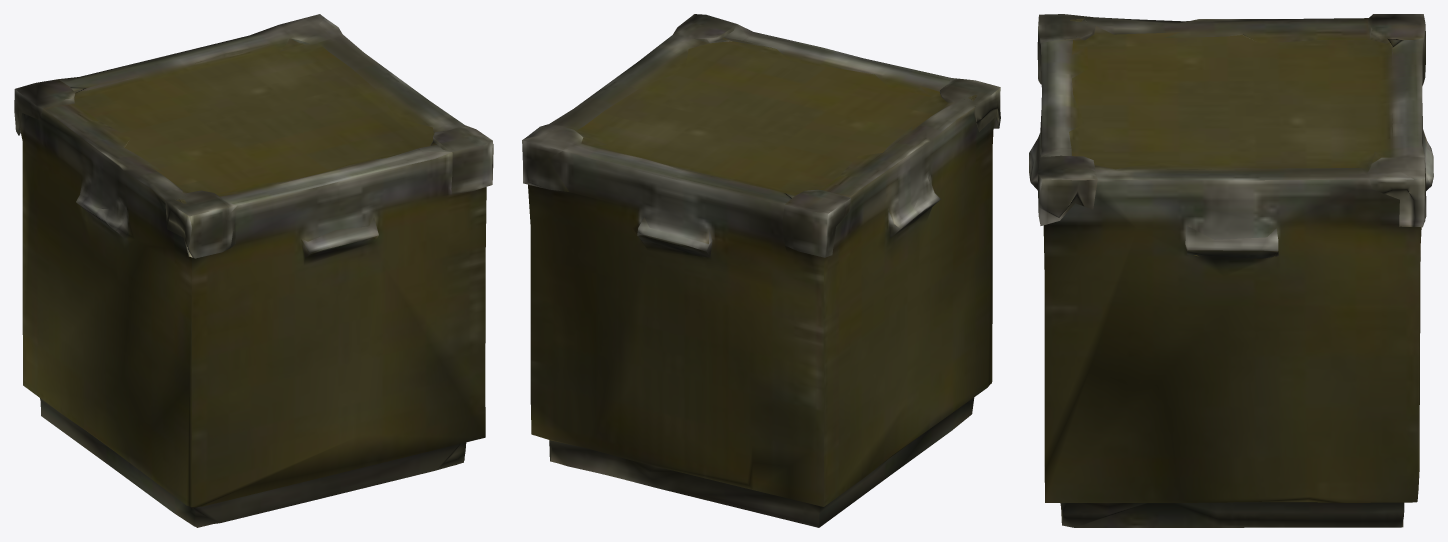
Rendered from crate.glb.
The picture shows the model from 3 angles, left to right: view 1: azimuth 30°, elevation 25°; view 2: azimuth 150°, elevation 25°; view 3: azimuth 270°, elevation 25°; orthographic projection. The views are drawn at different scales.
Parts seen in each view (by area): view 1: geometry_0; view 2: geometry_0; view 3: geometry_0.
Boxes of the visible parts, x1,y1,x2,y2 form: geometry_0: (14, 14, 493, 527); geometry_0: (522, 14, 1000, 527); geometry_0: (1029, 14, 1433, 527).
Size of the model in its own units: 81.66 by 80 by 81.54.
1 material, 1 textured.
